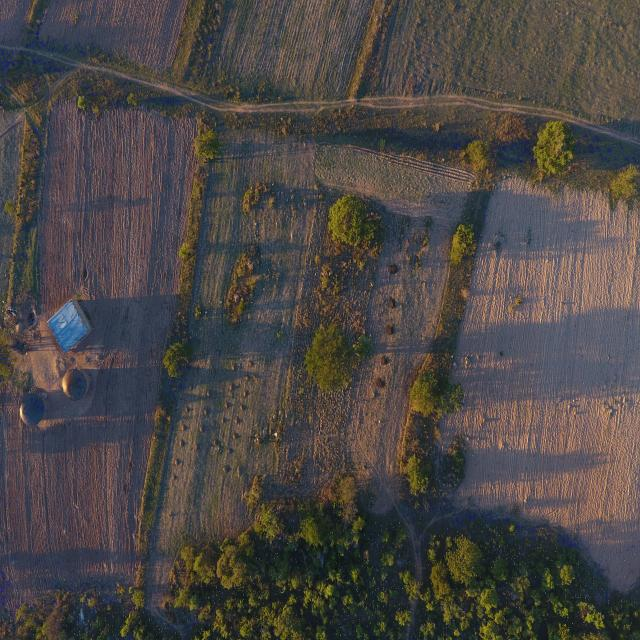boundaries: (130, 183, 214, 540), (420, 193, 497, 370)
